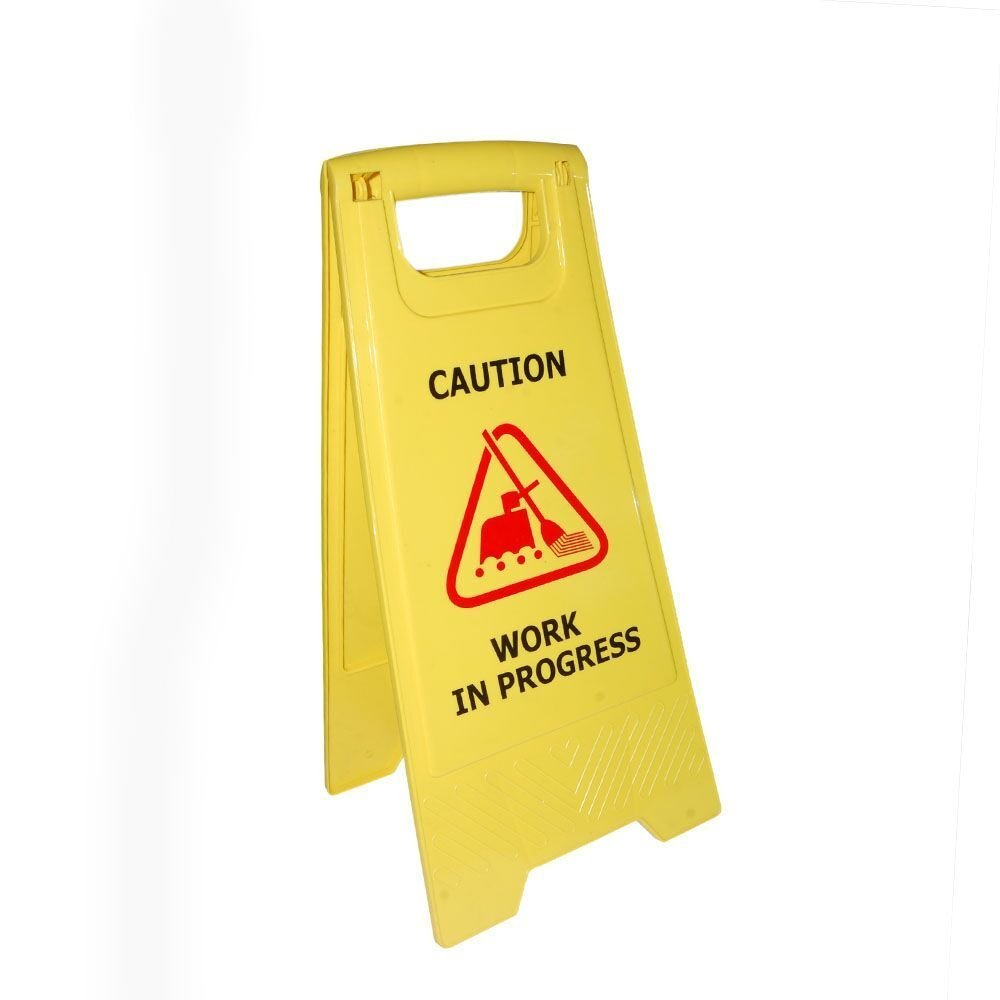caution: (419, 415, 630, 611)
